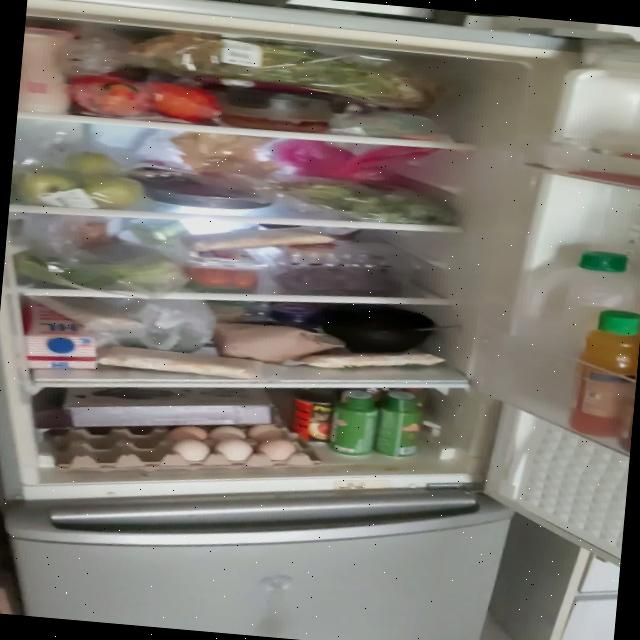apple: (12, 145, 147, 215)
egg: (53, 405, 325, 491)
leafy_greens: (133, 29, 438, 109), (12, 246, 188, 297), (283, 178, 461, 228)
orange: (70, 73, 222, 123)
tempeh: (185, 217, 336, 263), (94, 344, 264, 380), (299, 342, 445, 378)
unknown_bag: (272, 134, 439, 186), (91, 292, 218, 354)
